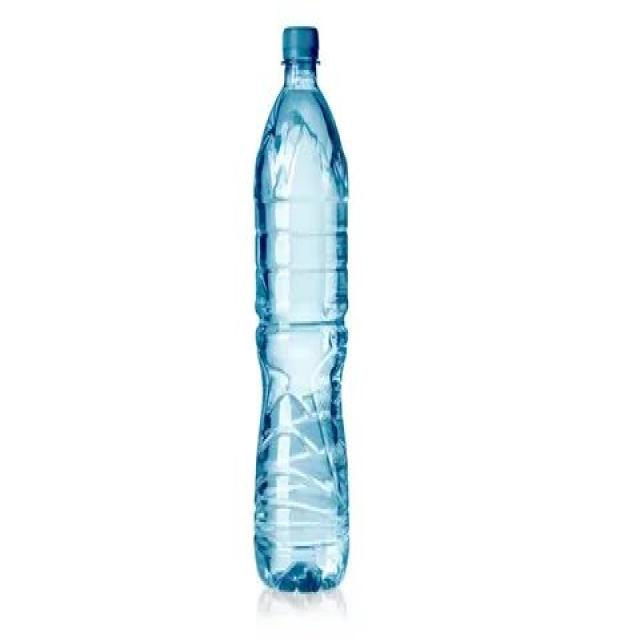blue: (253, 56, 350, 592)
